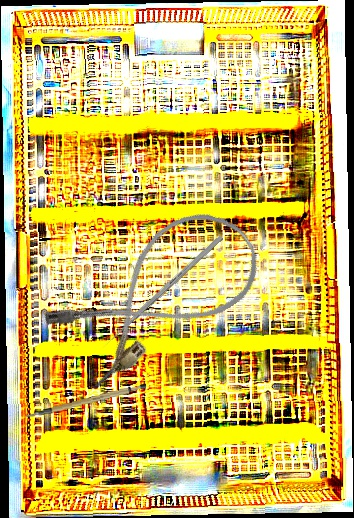Cannula: (37, 191, 276, 396)
Pusher: (100, 234, 224, 350)
Scalpel Handle: (24, 381, 148, 419)
